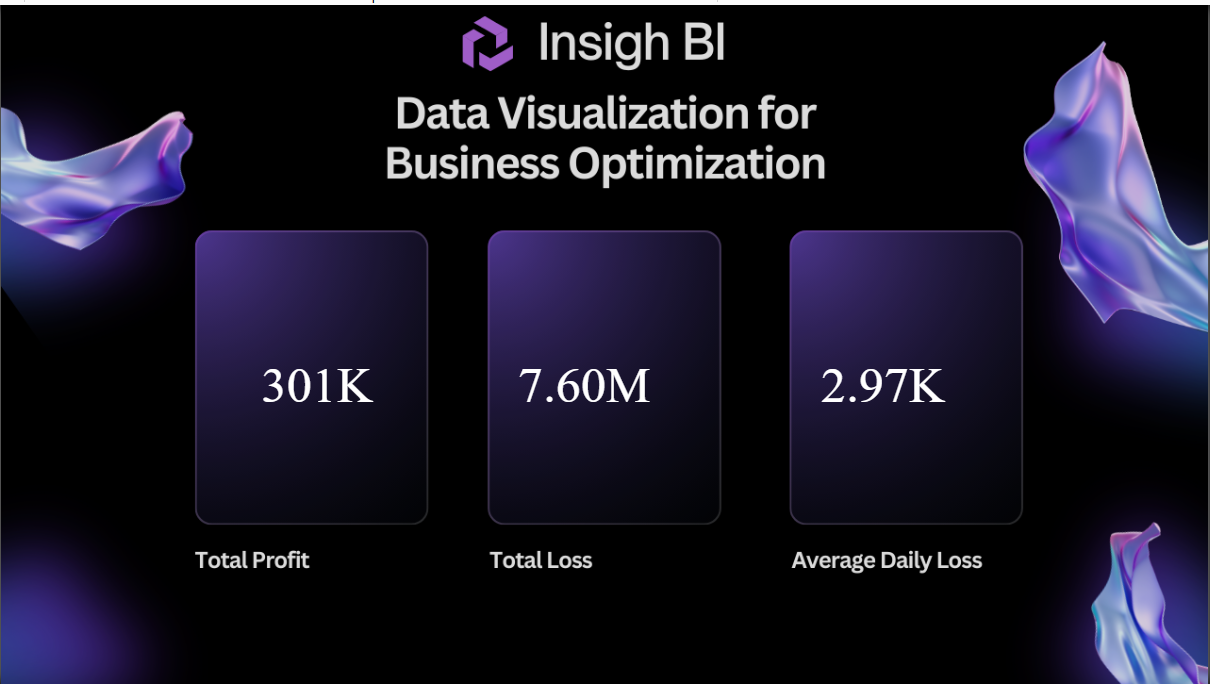

The page's visual inventory and layout, read from the dashboard file:
{"tool":"powerbi","page":{"name":"Page 2","canvas":[1920,1080],"ordinal":1},"visuals":[{"type":"cardVisual","fields":{"Data":["Measures Table.Total Profit"]},"box":[397.4,307.9,463.2,594.7],"z":0},{"type":"cardVisual","fields":{"Data":["Measures Table.Total loss"]},"box":[805.3,307.9,463.2,594.7],"z":1},{"type":"cardVisual","fields":{"Data":["Measures Table.Average Daily Loss"]},"box":[1289.5,307.9,463.2,594.7],"z":2}]}

Visuals, with their boxes in screenshot pixels (x1, y1, x2, y2), scaled from the page's 1920x1080 canvas onto the 1210x684 screenshot:
cardVisual - Measures Table.Total Profit: rect(250, 195, 542, 572)
cardVisual - Measures Table.Total loss: rect(508, 195, 799, 572)
cardVisual - Measures Table.Average Daily Loss: rect(813, 195, 1105, 572)
